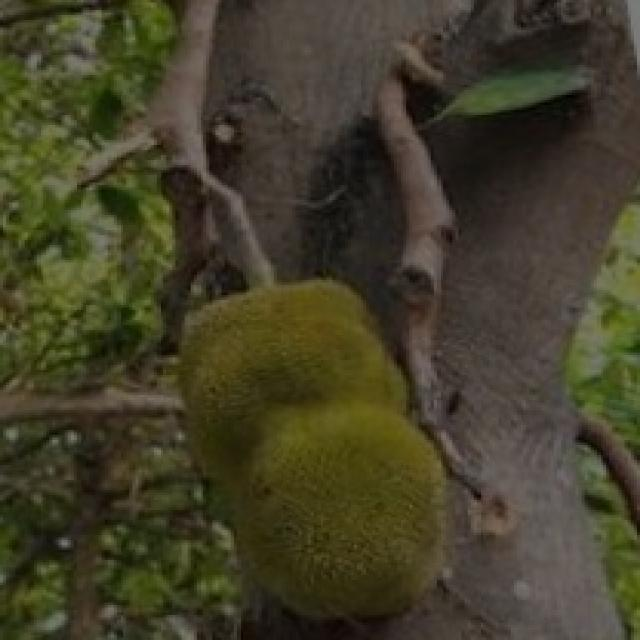Fruit: (151, 250, 492, 640)
